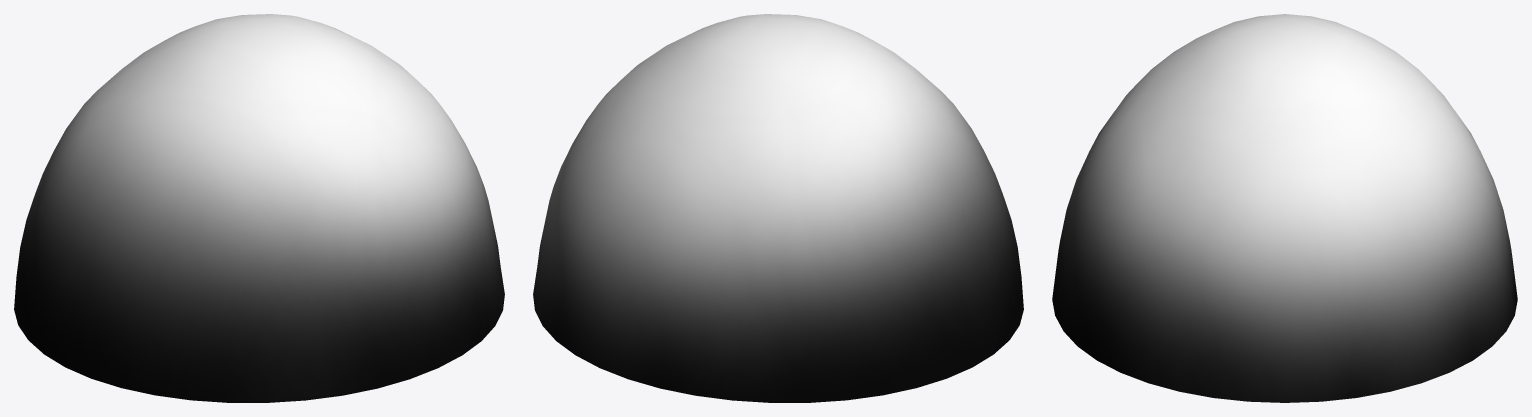
The model's file is BovedaCielo.fbx.
3 renders of one model, left to right at view 1: azimuth 30°, elevation 25°; view 2: azimuth 150°, elevation 25°; view 3: azimuth 270°, elevation 25°, orthographic.
Parts seen in each view (by area): view 1: cielo; view 2: cielo; view 3: cielo.
Part boxes in pixels (bbox=[...]): cielo: bbox=[14, 14, 504, 402]; cielo: bbox=[533, 14, 1023, 402]; cielo: bbox=[1052, 14, 1517, 402].
Bounding box in the file's own units: 1786 × 1075 × 1699.
1 material, 1 textured.
